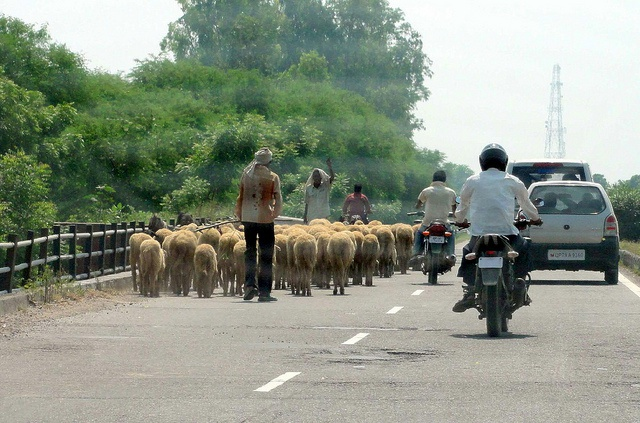non-vehicle: (450, 195, 545, 337), (406, 209, 457, 287), (335, 203, 377, 224)
